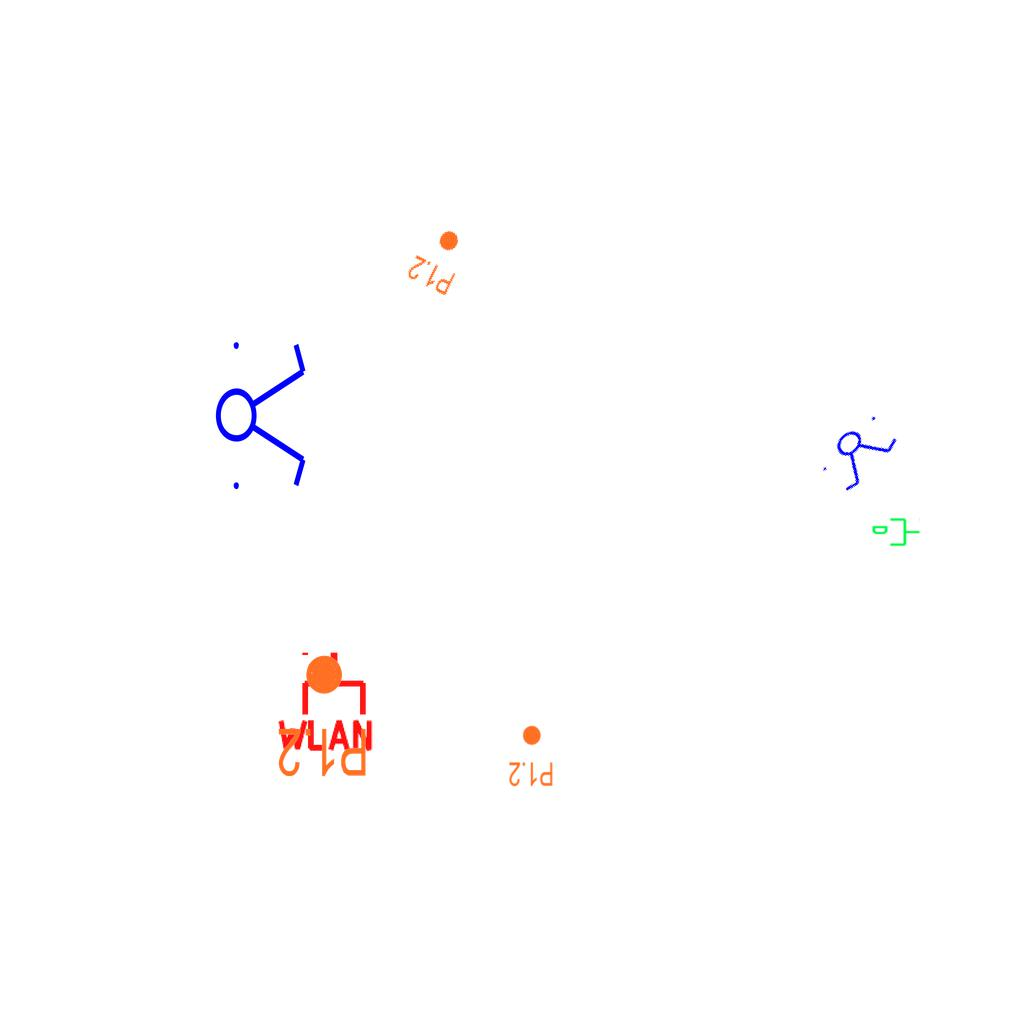Datenanschluss_einfach: (871, 516, 921, 550)
Downlight_LED_Einbauleuchten_Flur: (276, 652, 369, 780), (404, 220, 474, 298), (508, 724, 554, 788)
Serienschalter: (214, 330, 310, 498), (812, 405, 906, 499)
WLAN: (273, 648, 377, 753)
